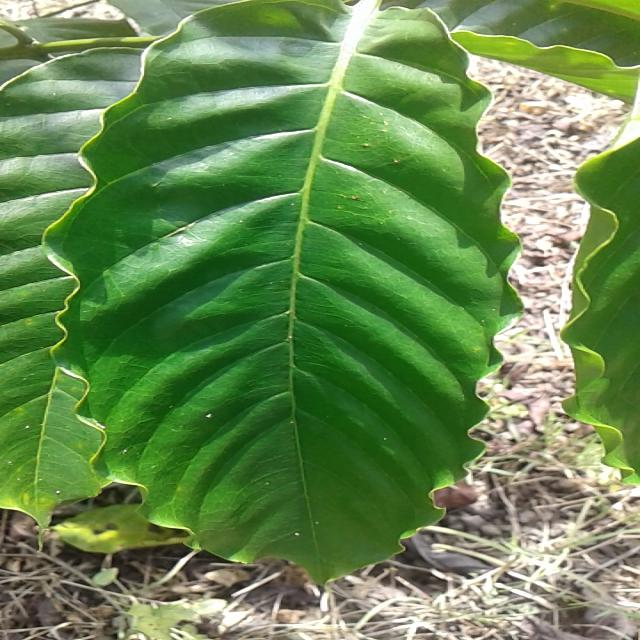Sanas: (49, 0, 521, 586)
